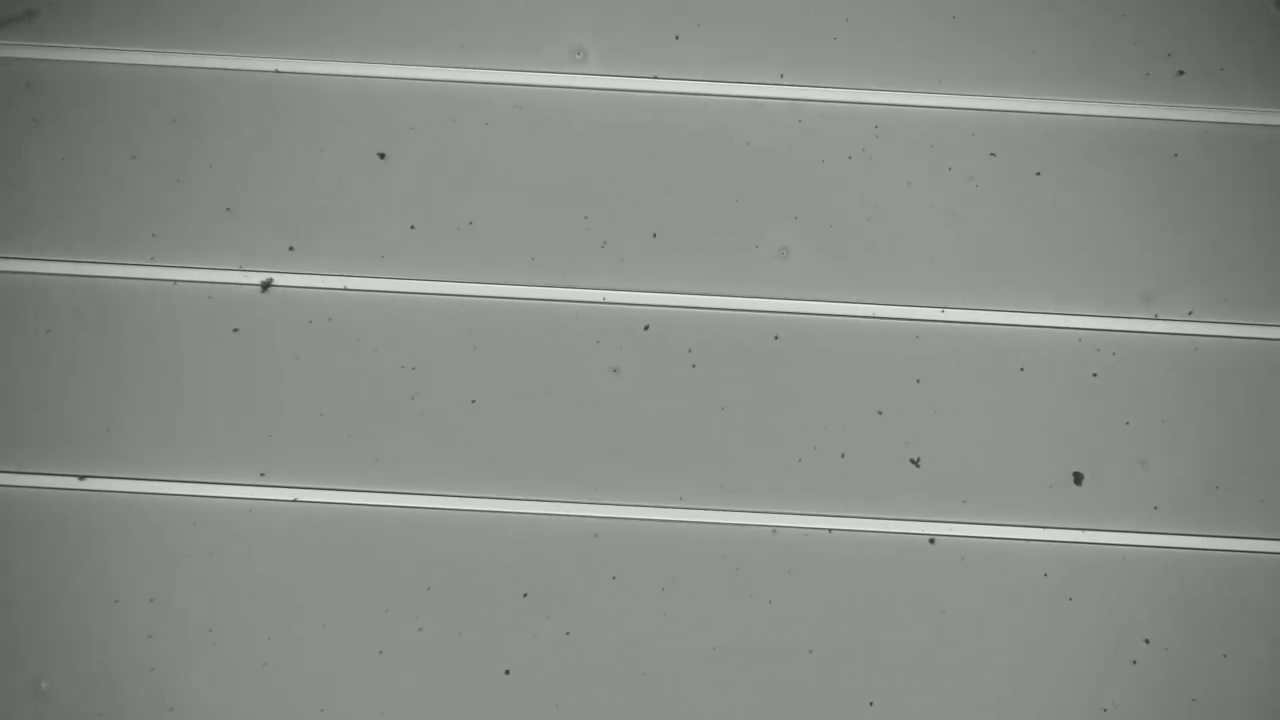stains_enbedded: (256, 268, 278, 293)
